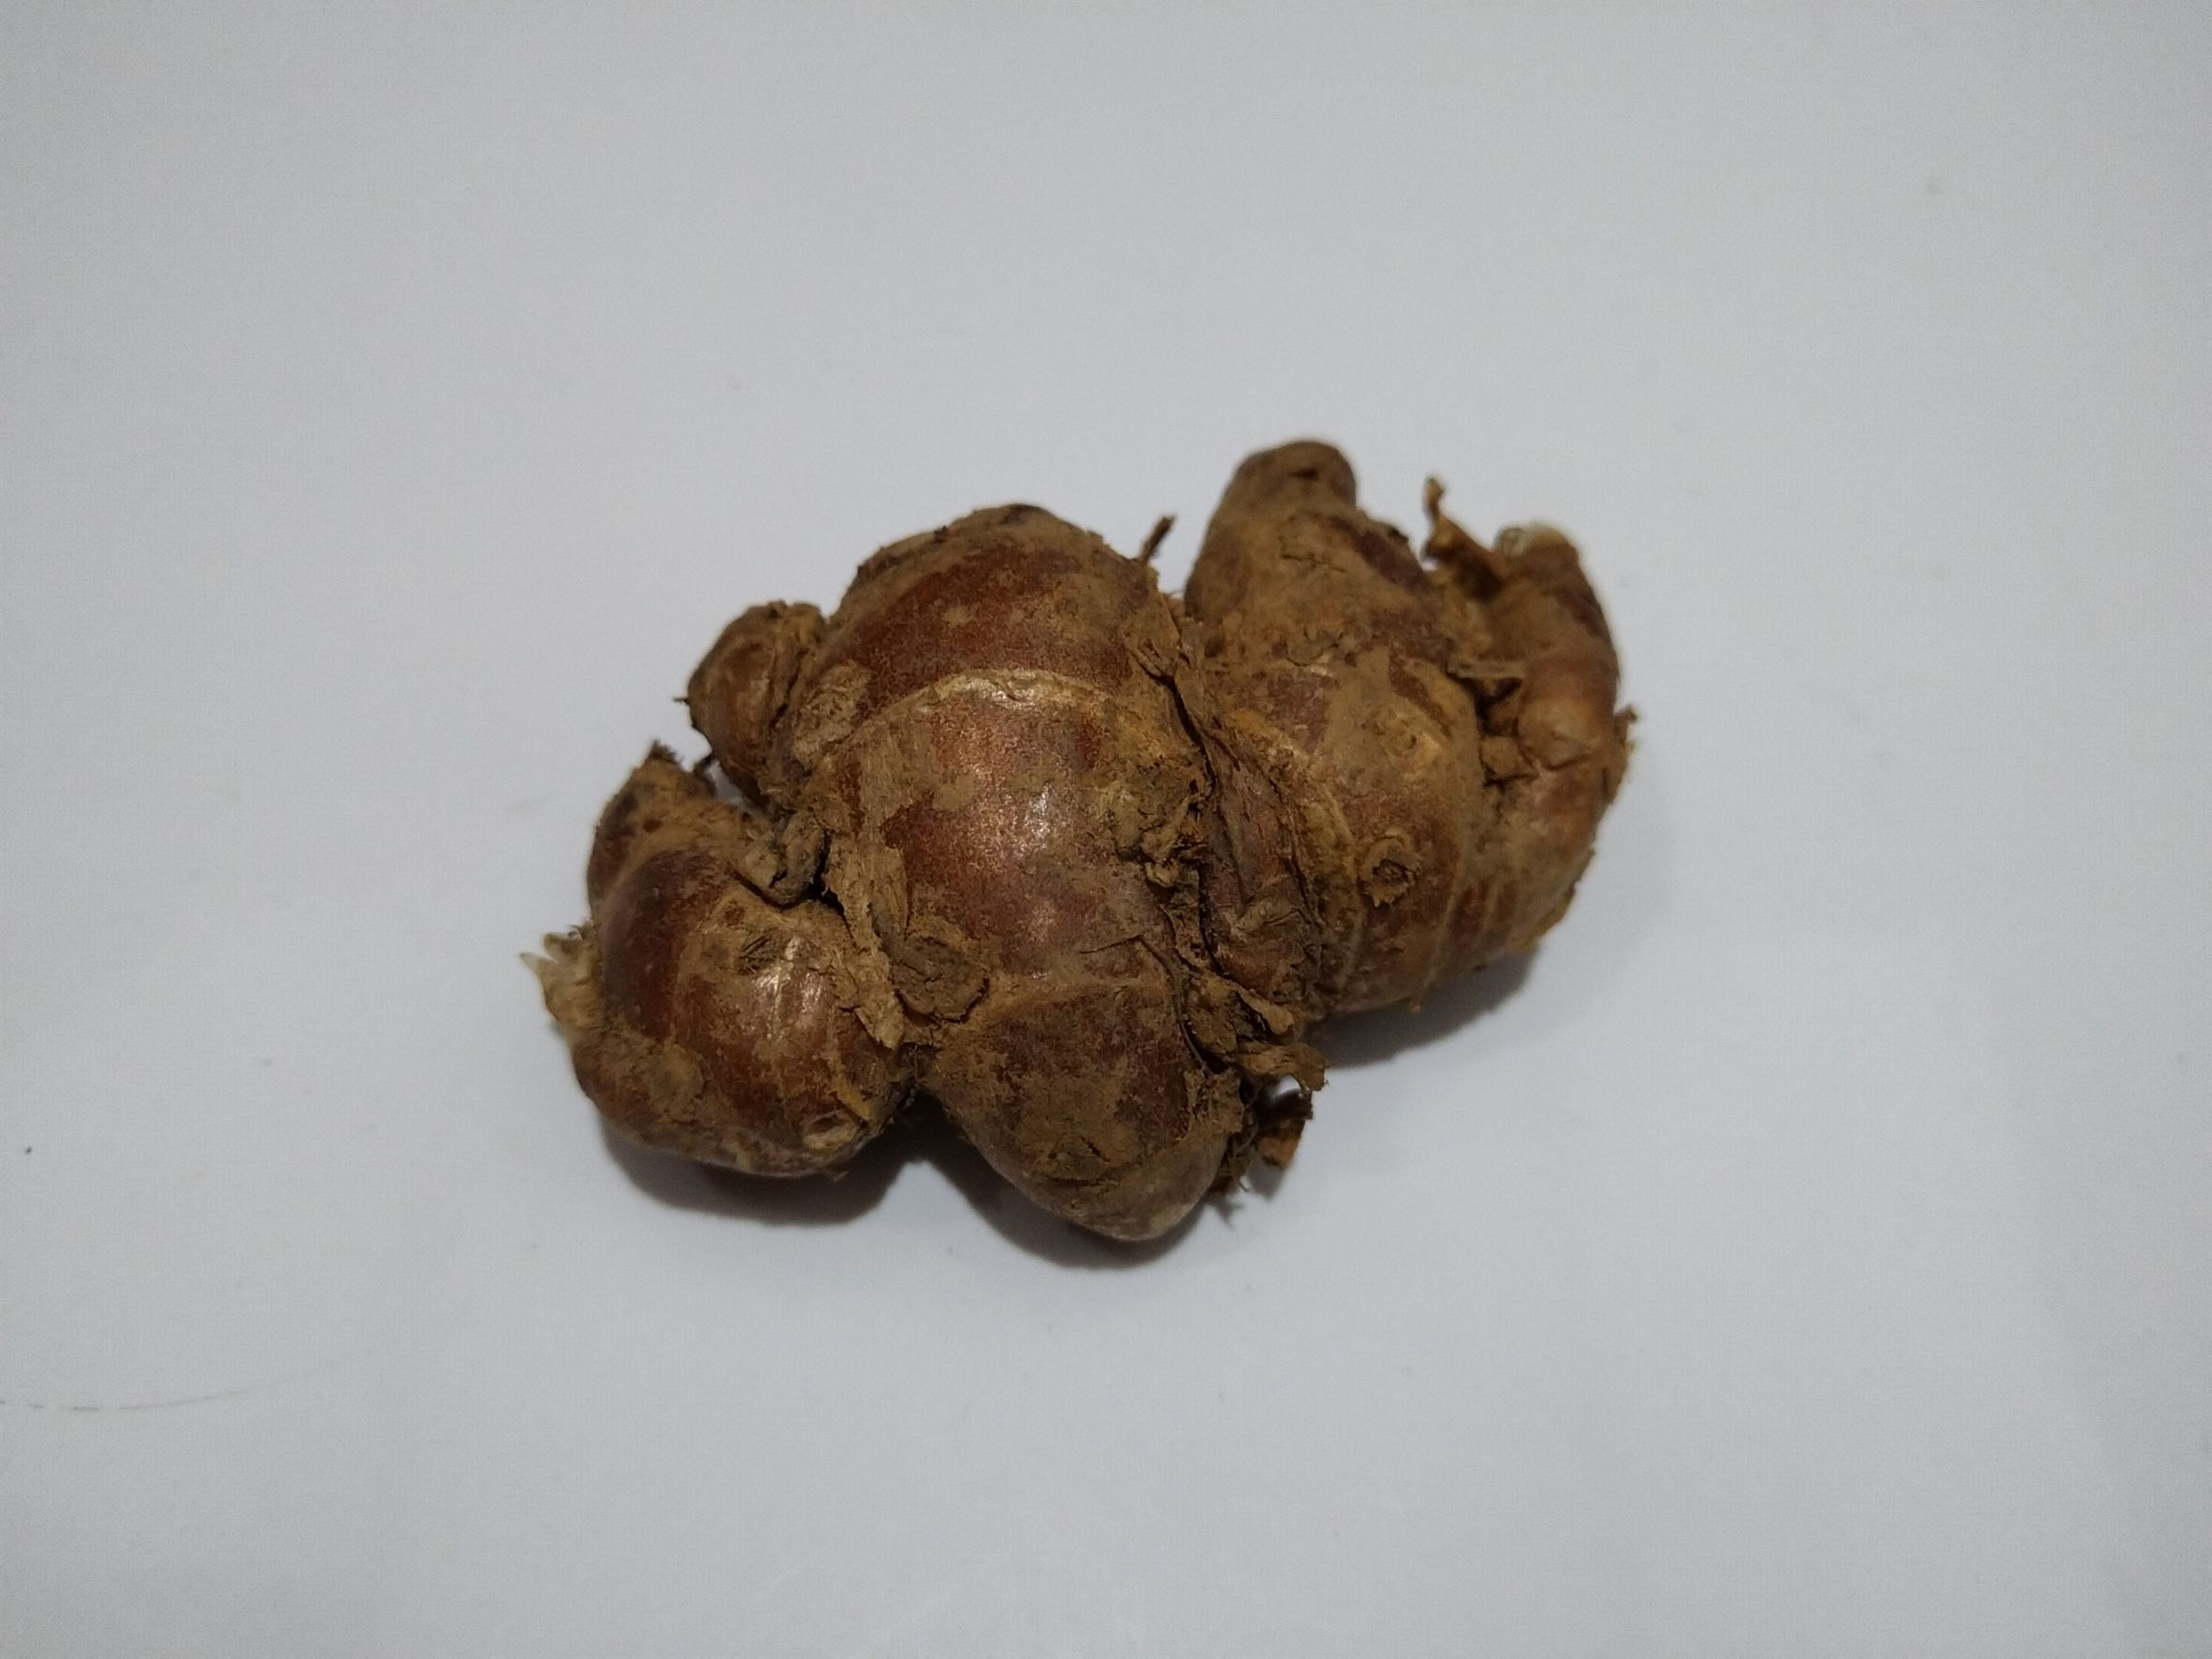Kencur: (568, 455, 1651, 1255)
